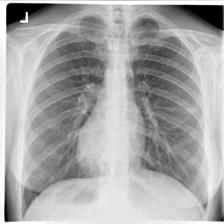tuberculosis: (16, 9, 212, 221)
